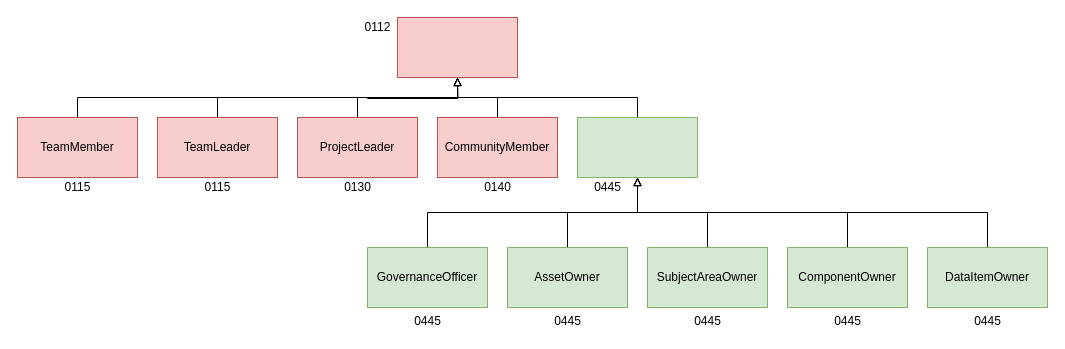
Some shapes in this 1065 by 349 pixel diagram are drawn without their labels. The box of each missing label's shape, as (x1, y1, x2, y2) in pixels:
GovernanceRole: (576, 116, 698, 178)
PersonRole: (396, 16, 518, 78)
